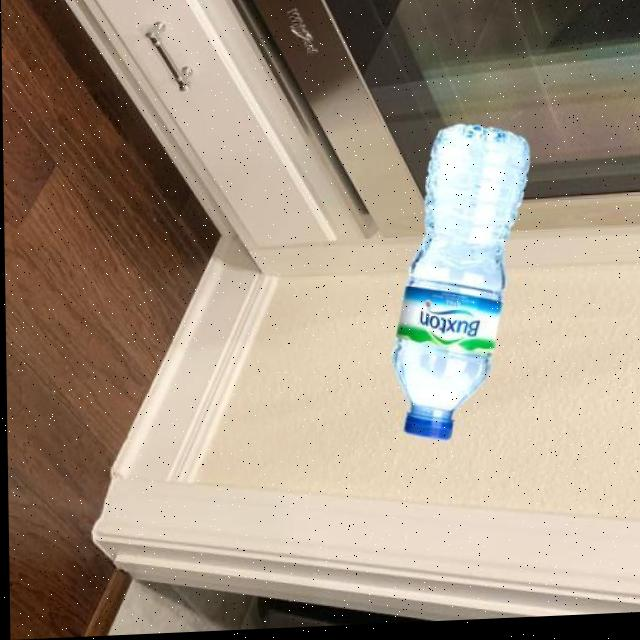bottle: (387, 123, 535, 447)
